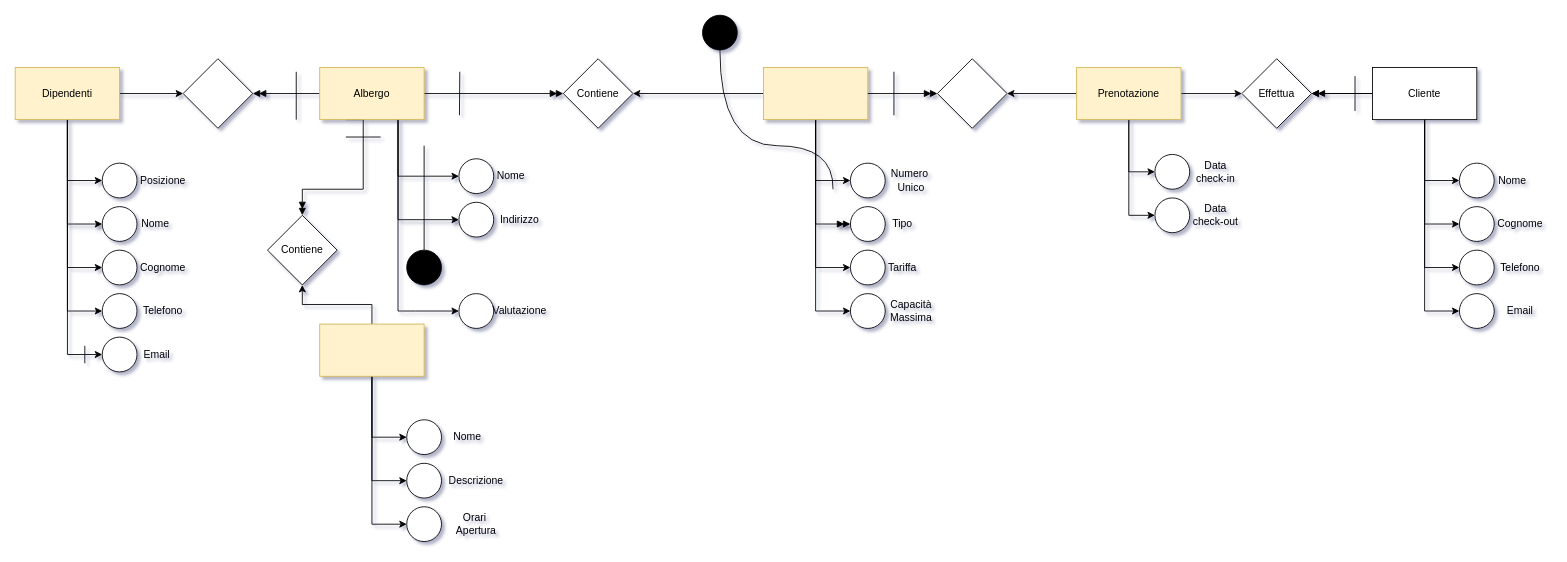
Some shapes in this 1567 by 562 pixel diagram are drawn without their labels. Each missing label, with the centre of its shape:
"Bloccata" belongs at (972,93).
"Camera" belongs at (815,93).
"Facility" belongs at (371,349).
"Ha" belongs at (217,93).
